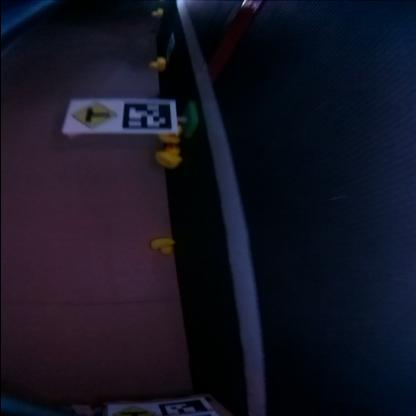Duckie: (154, 147, 180, 170), (149, 239, 173, 254), (156, 132, 180, 144), (148, 58, 162, 71)
Intersection sign: (68, 102, 118, 130), (105, 405, 154, 415)
QR code: (120, 102, 168, 132), (160, 398, 214, 416)
